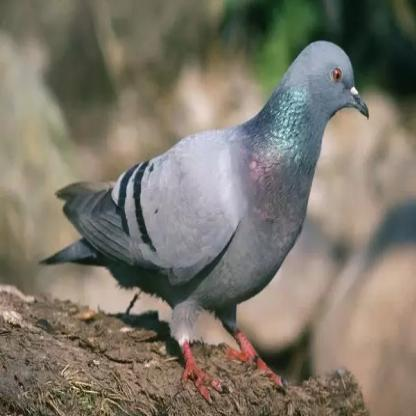Flying Rat: (59, 40, 375, 382)
